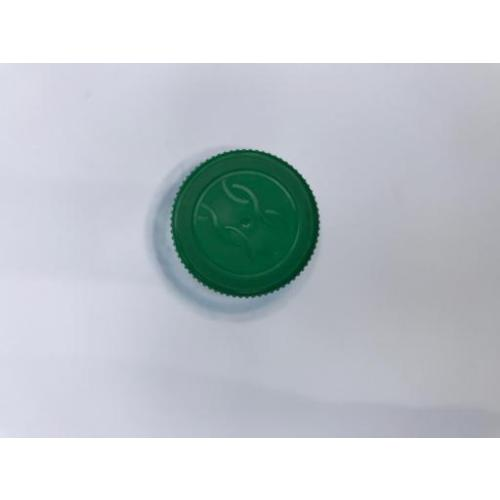plastic: (155, 147, 320, 304)
